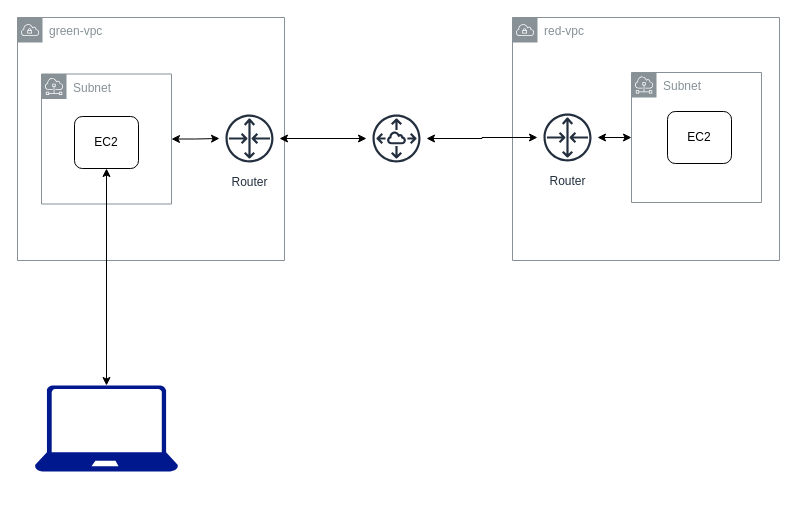
Some shapes in this 797 by 510 pixel diagram are drawn without their labels. The box of each missing label's shape, as (x1, y1, x2, y2) in pixels:
Peering: (366, 108, 426, 168)
SSH in to the instance: (34, 385, 178, 471)
